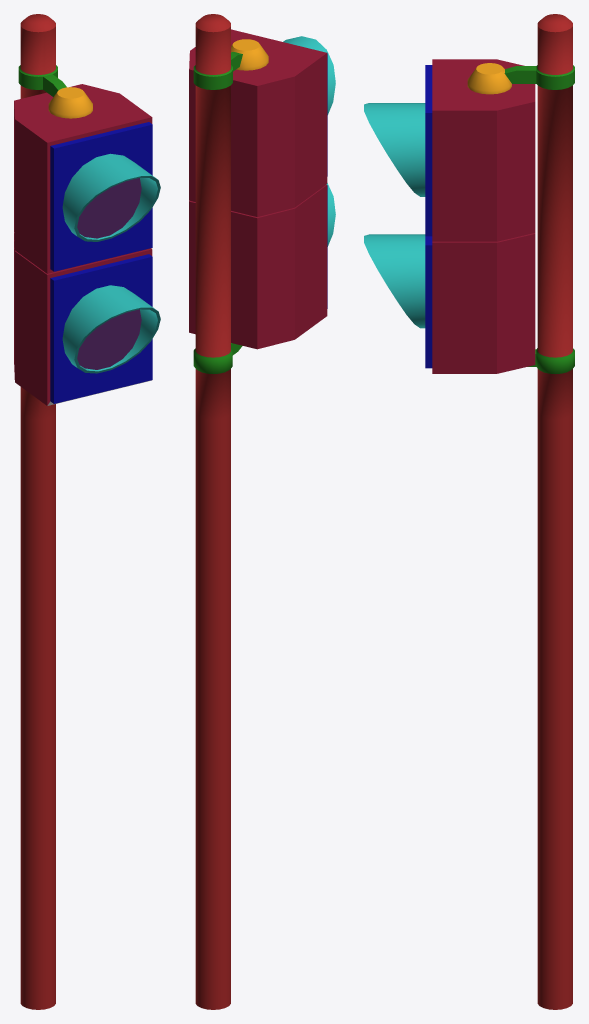
The model's file is Pedestrian Traffic Light.FBX.
The picture shows the model from 3 angles, left to right: view 1: azimuth 30°, elevation 25°; view 2: azimuth 150°, elevation 25°; view 3: azimuth 270°, elevation 25°; orthographic projection.
Parts seen in each view (by area): view 1: Cylinder004; view 2: Cylinder004; view 3: Cylinder004.
Part boxes in pixels (bbox=[...]): Cylinder004: bbox=[14, 14, 160, 1009]; Cylinder004: bbox=[189, 14, 335, 1009]; Cylinder004: bbox=[364, 14, 574, 1009].
Size of the model in its own units: 0.3351 by 3 by 0.5831.
